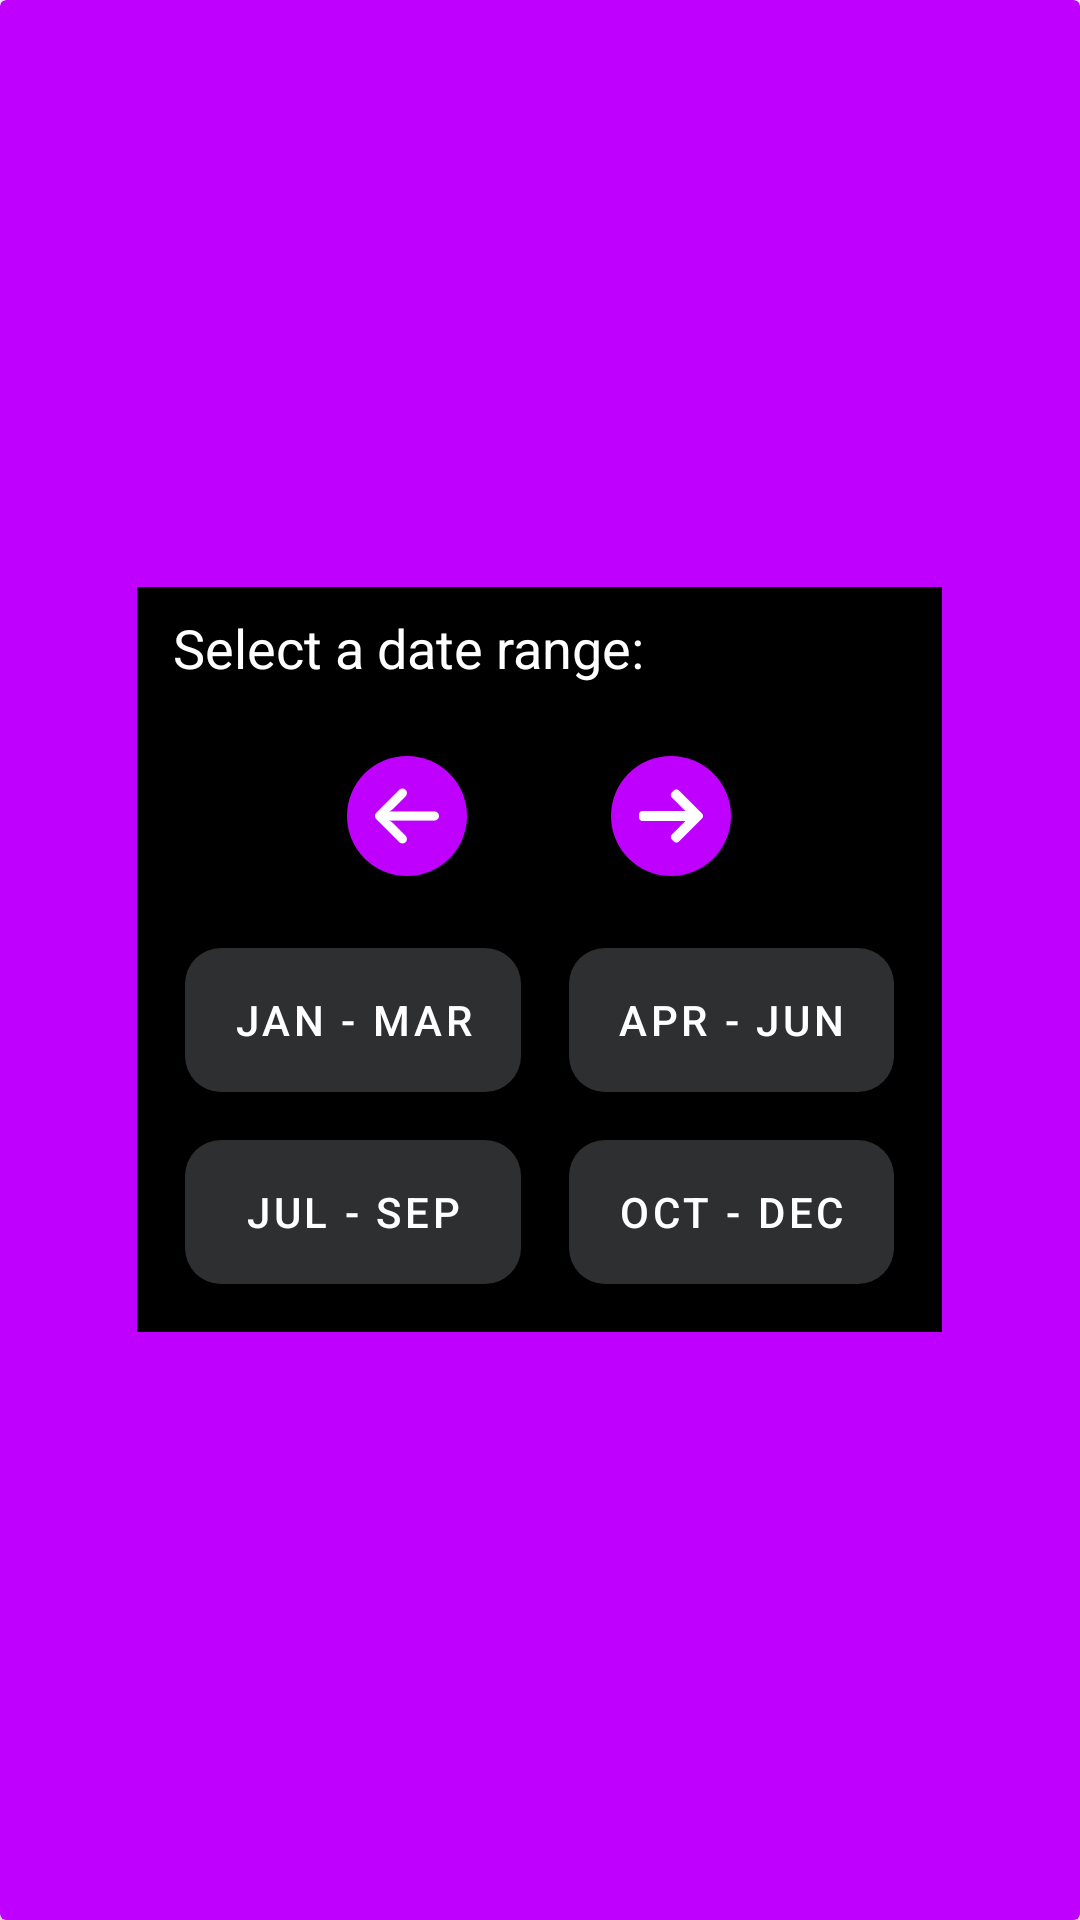

Icons on this 1080×1920 Android screen, each with its box as {"x1": x1, "y1": y1, "x2": x2, "y2": y2}:
left arrow: {"x1": 347, "y1": 756, "x2": 467, "y2": 876}
right arrow: {"x1": 611, "y1": 756, "x2": 731, "y2": 876}
